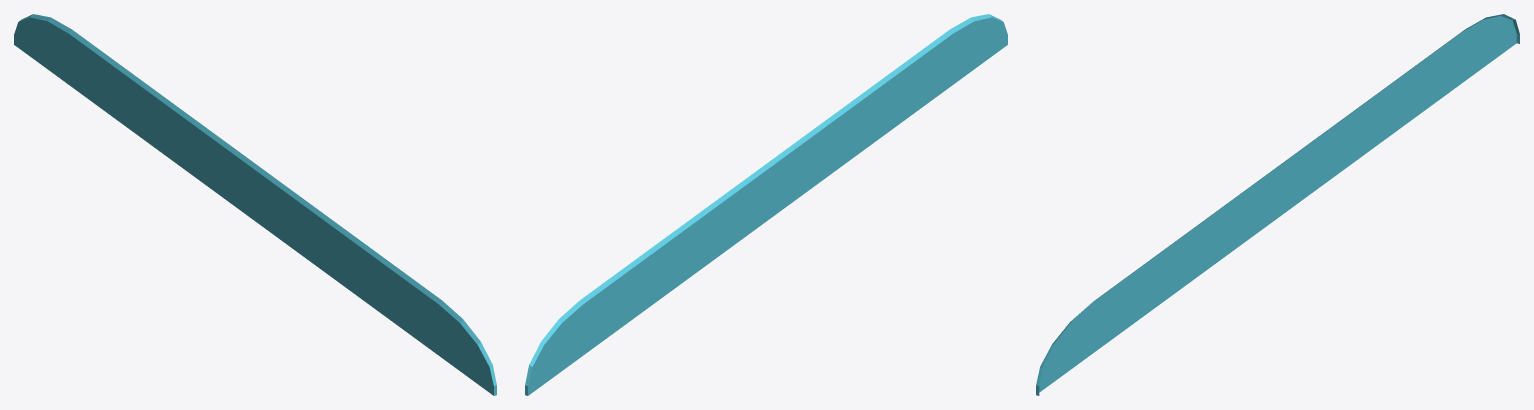
The model's file is pared_arriba_p_redonda 1.fbx.
3 views of the same model, side by side, from view 1: azimuth 30°, elevation 25°; view 2: azimuth 150°, elevation 25°; view 3: azimuth 330°, elevation 25° (orthographic).
Visible parts, largest first — view 1: Cube.033; view 2: Cube.033; view 3: Cube.033.
Boxes of the visible parts, box(x1,y1,x2,y2) form: Cube.033: box(14, 14, 496, 395); Cube.033: box(525, 14, 1007, 395); Cube.033: box(1036, 14, 1519, 395).
Bounding box in the file's own units: 7.99 × 132 × 2100.
